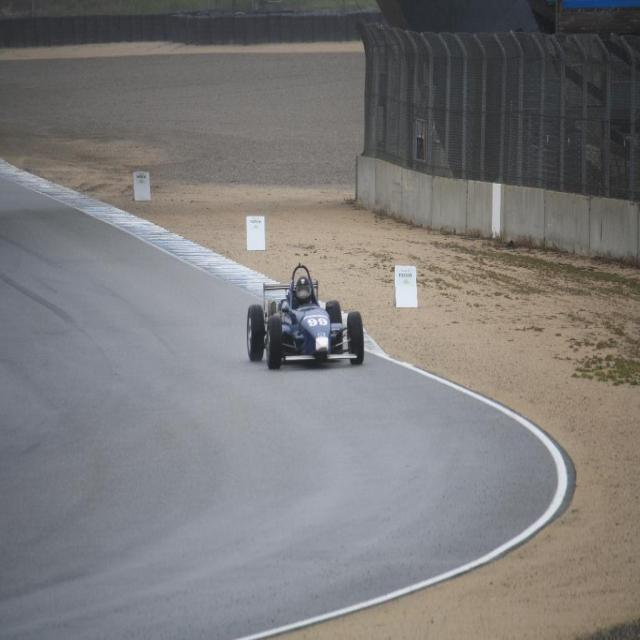car: (241, 262, 365, 371)
